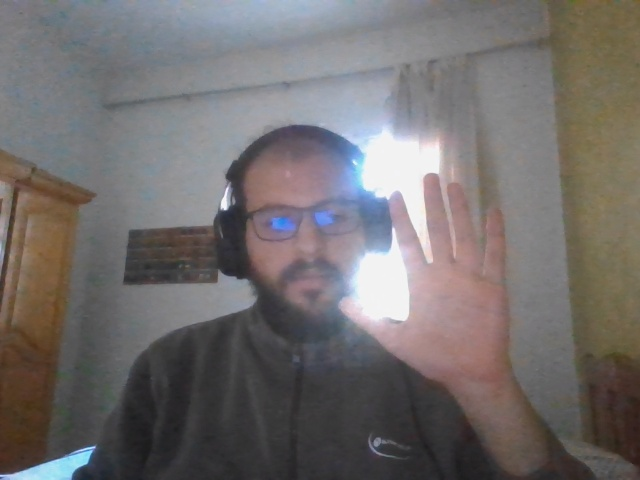Hello: (338, 172, 510, 381)
